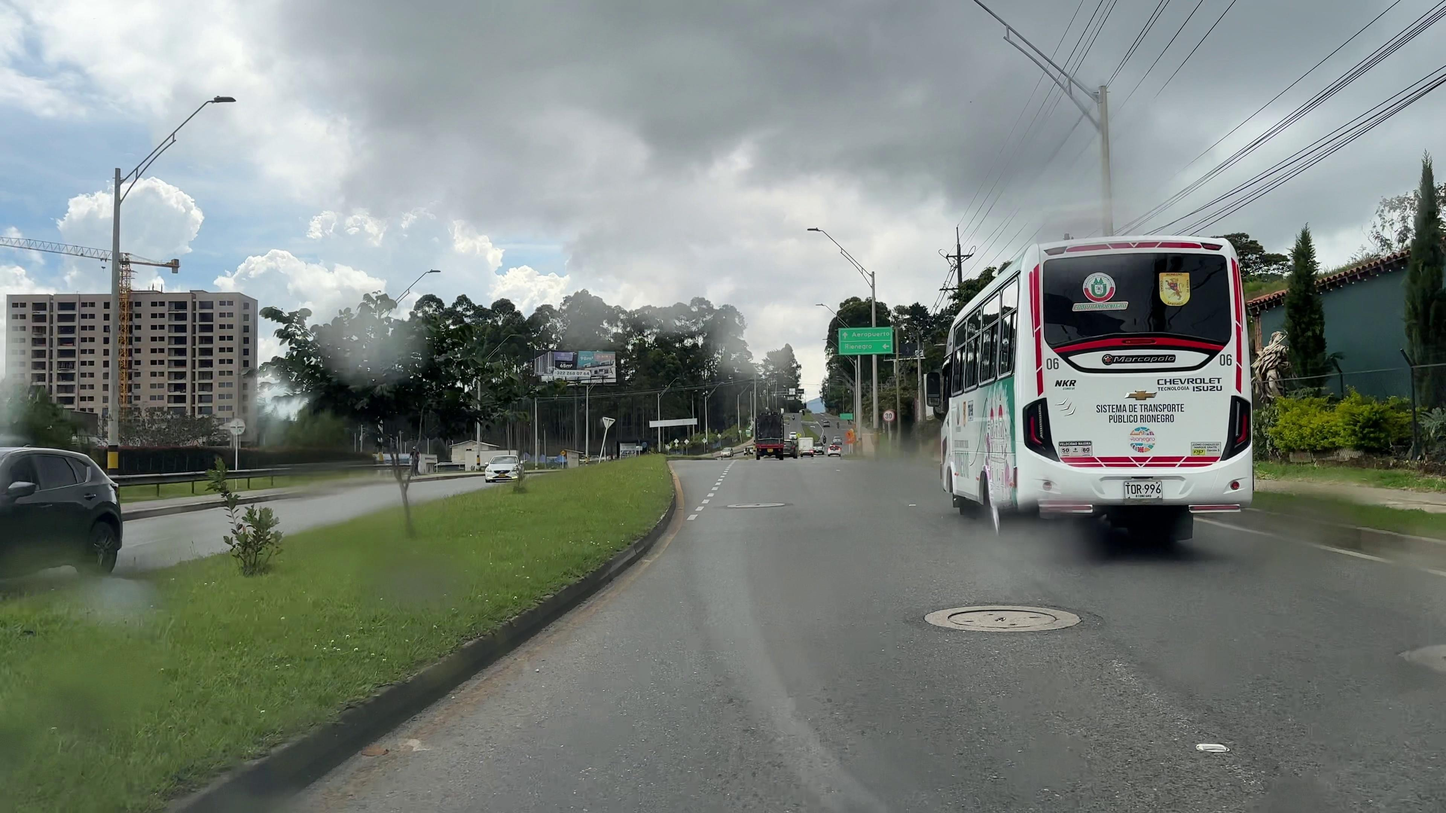registro: (947, 610, 1056, 629), (727, 503, 785, 507)
